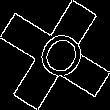O_SW: (23, 22, 87, 88)
